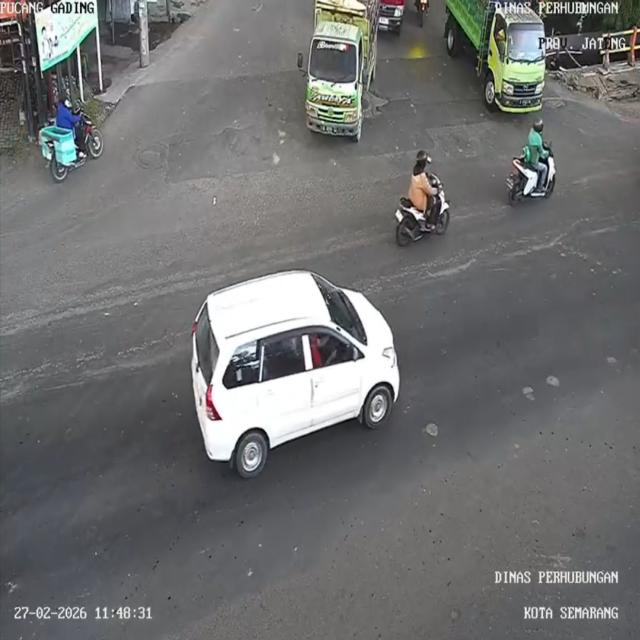motorcycle: (499, 151, 559, 206), (392, 190, 453, 244), (78, 105, 104, 164)
person: (409, 150, 433, 211), (522, 116, 547, 168), (56, 96, 84, 130)
rider_region: (39, 90, 106, 182), (392, 149, 453, 248), (505, 121, 558, 206)
